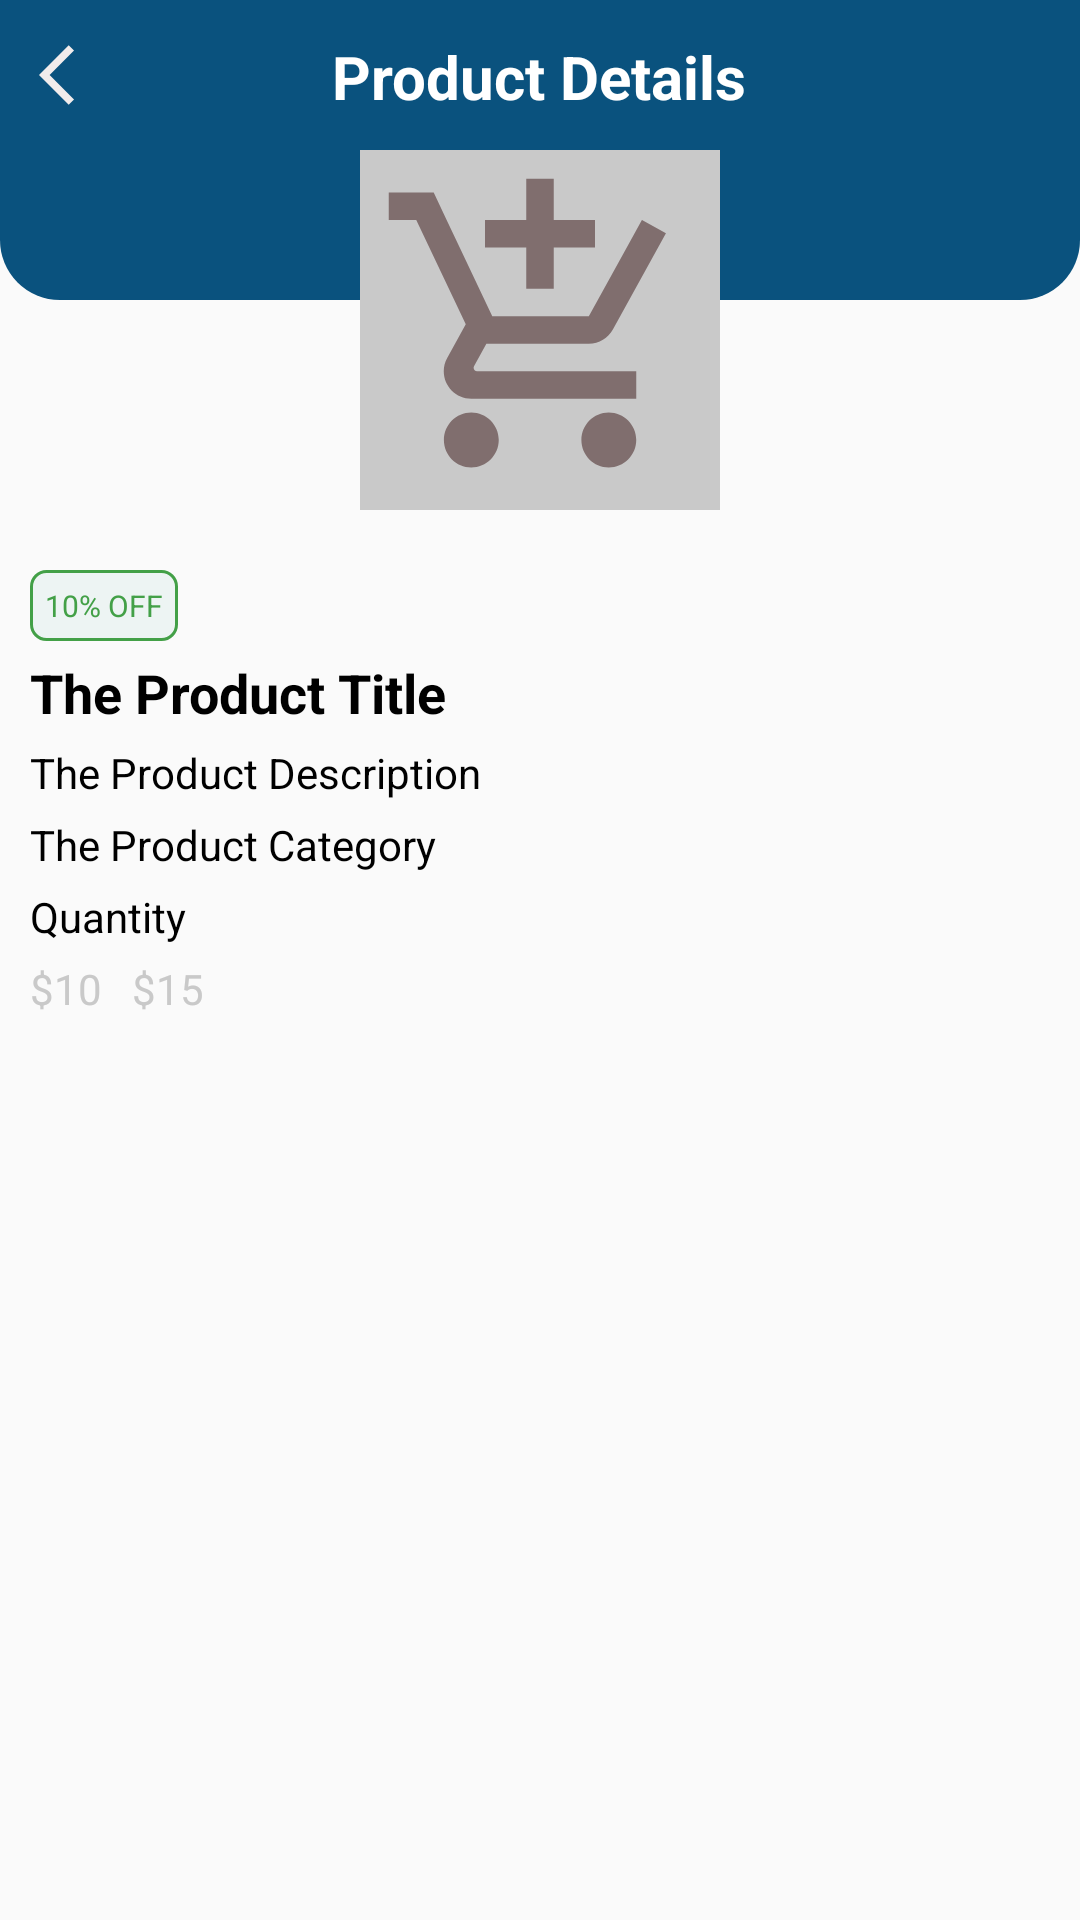

Screen size 1080w x 1920h. Icon name, then its center in pixels as [x,y]:
add shopping: [540,330]
arrow back: [56,75]
